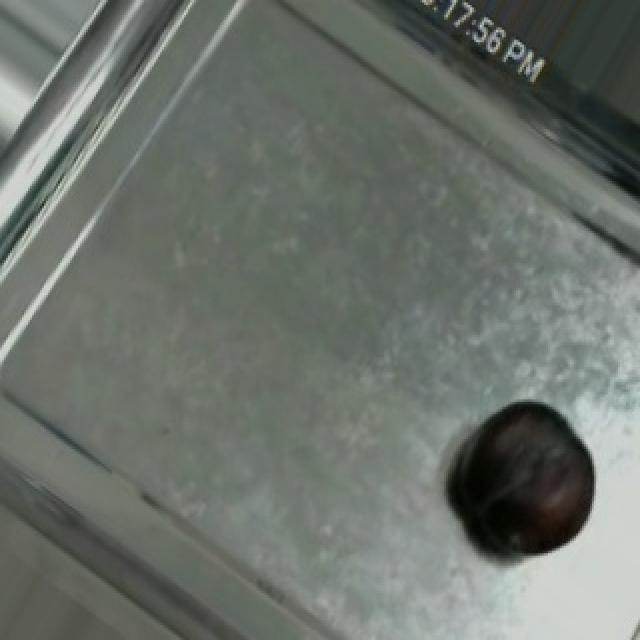Fruit: (442, 380, 616, 576)
